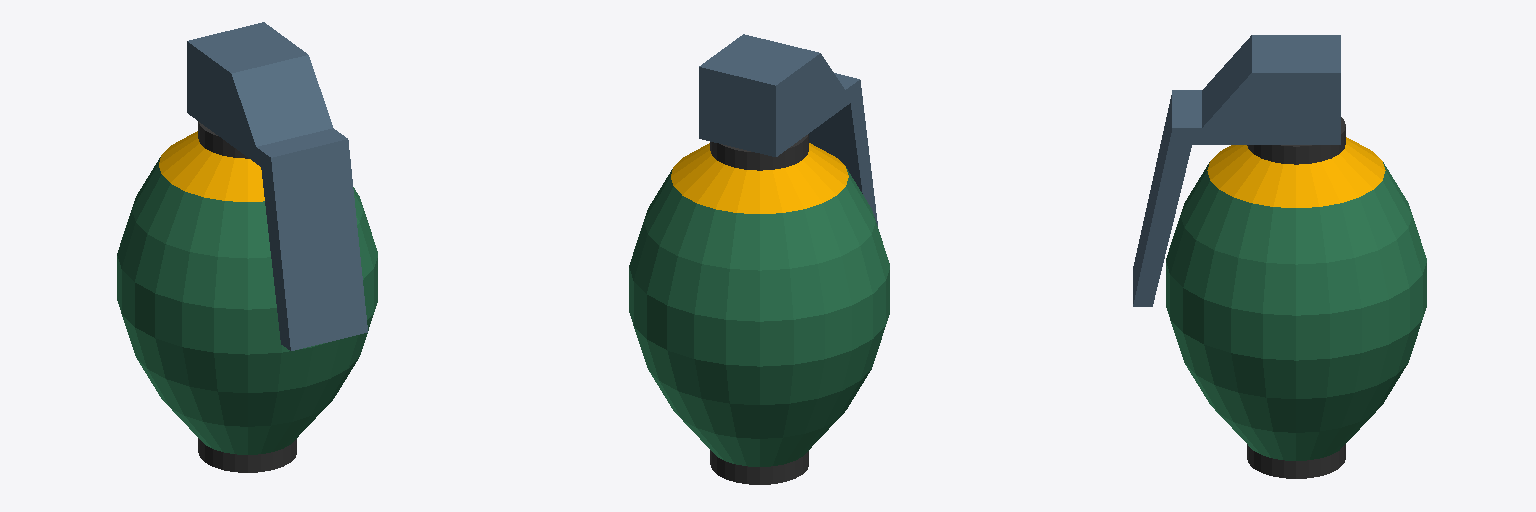
Rendered from grenade.obj.
The picture shows the model from 3 angles: view 1: azimuth 30°, elevation 25°; view 2: azimuth 150°, elevation 25°; view 3: azimuth 270°, elevation 25°; orthographic projection.
Visible parts, largest first — view 1: grenade, grip; view 2: grenade, grip; view 3: grenade, grip.
Part boxes in pixels (x1,y1,x2,y2): grenade: (117,121,377,472); grip: (187,22,367,350); grenade: (629,134,889,484); grip: (699,34,877,225); grenade: (1166,117,1426,478); grip: (1133,35,1340,306).
Size of the model in its own units: 0.101 by 0.1723 by 0.1137.